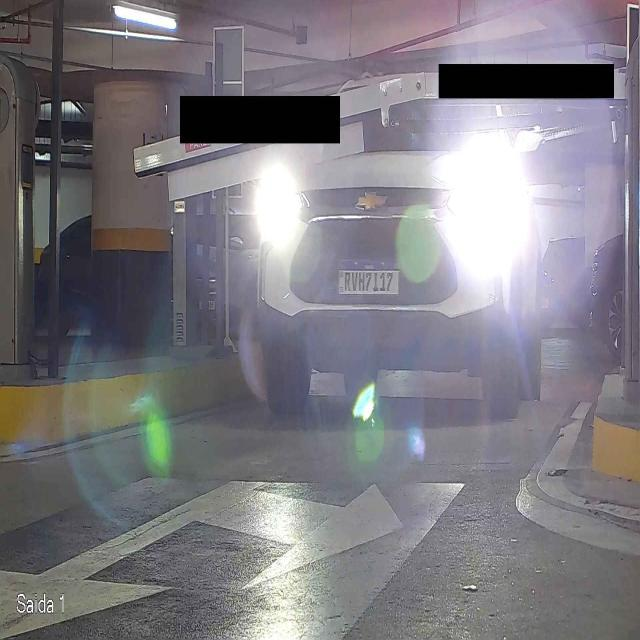mercosul_plate: (335, 256, 401, 296)
